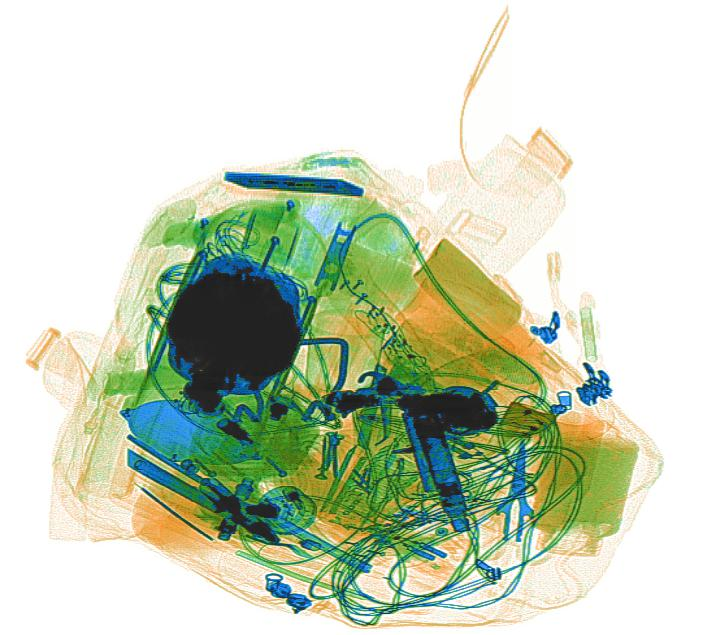knife: (264, 514, 373, 575)
scissors: (472, 437, 550, 565)
